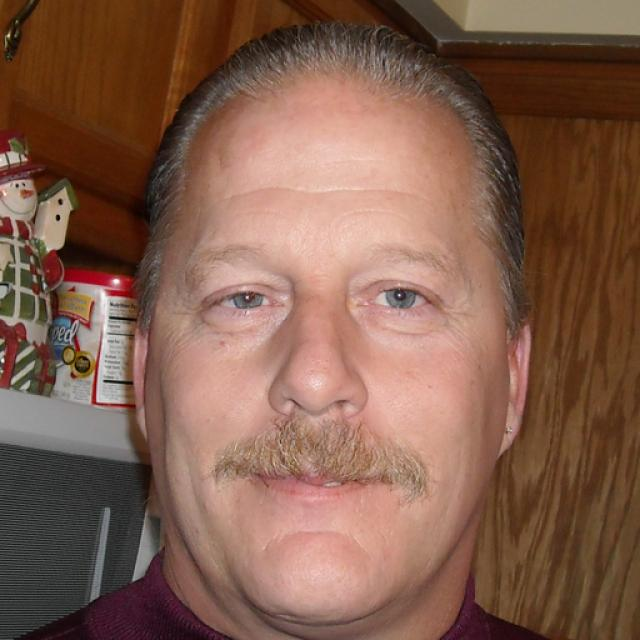Wrinkle: (205, 176, 434, 210)
